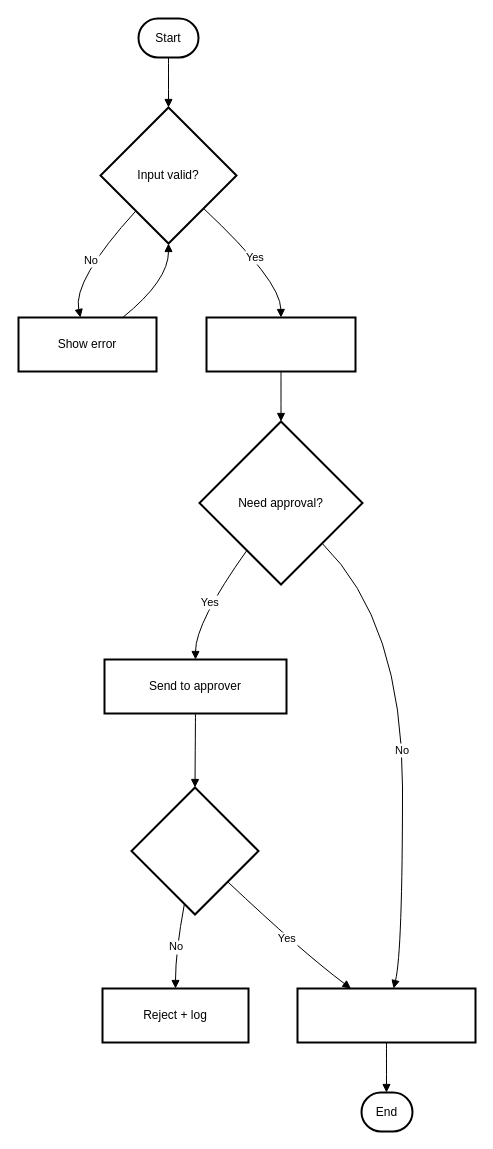
This 493x1149 diagram has some shape labels left out. Each missing label, with the box of its shape:
Approved?: (130, 786, 259, 915)
Commit changes: (296, 987, 476, 1043)
Process data: (205, 316, 356, 372)
